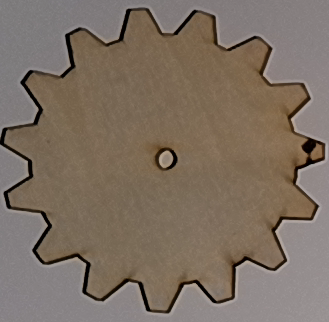Points: (300, 136, 318, 165)
